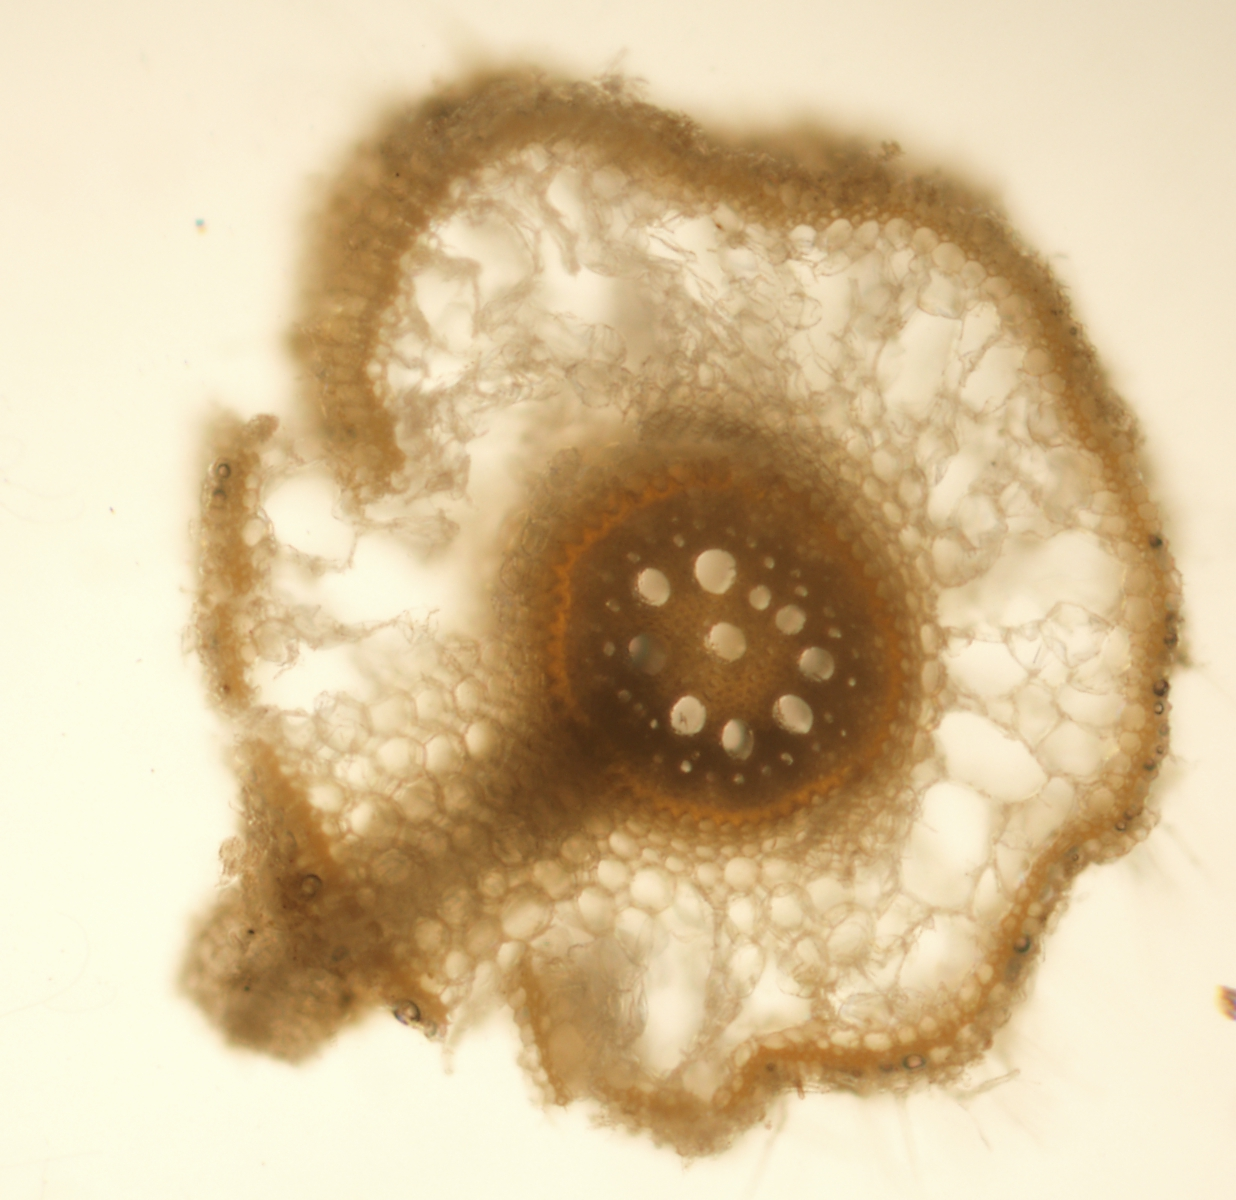lm: (694, 548, 737, 594), (629, 633, 671, 676), (772, 694, 813, 735), (707, 622, 746, 660), (670, 695, 706, 736), (636, 567, 671, 607), (721, 718, 754, 760), (798, 647, 835, 682), (775, 604, 807, 635), (748, 585, 772, 610)
